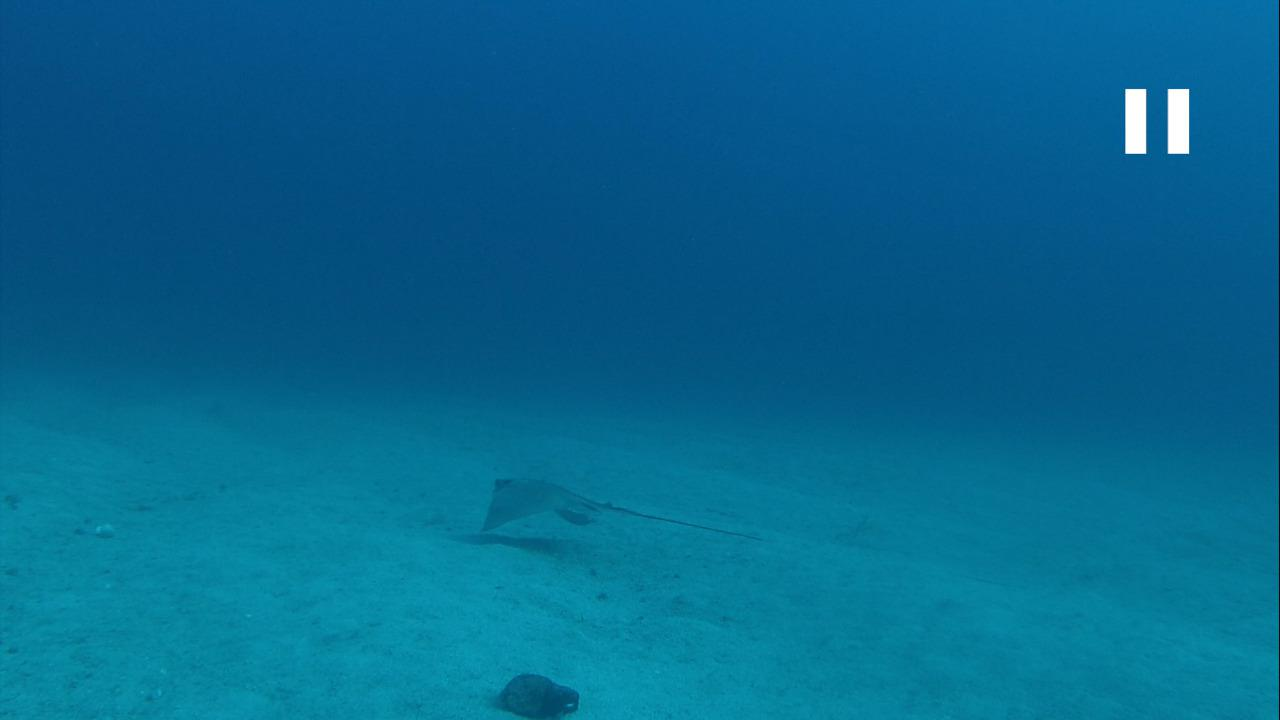myliobatis: (477, 472, 760, 556)
